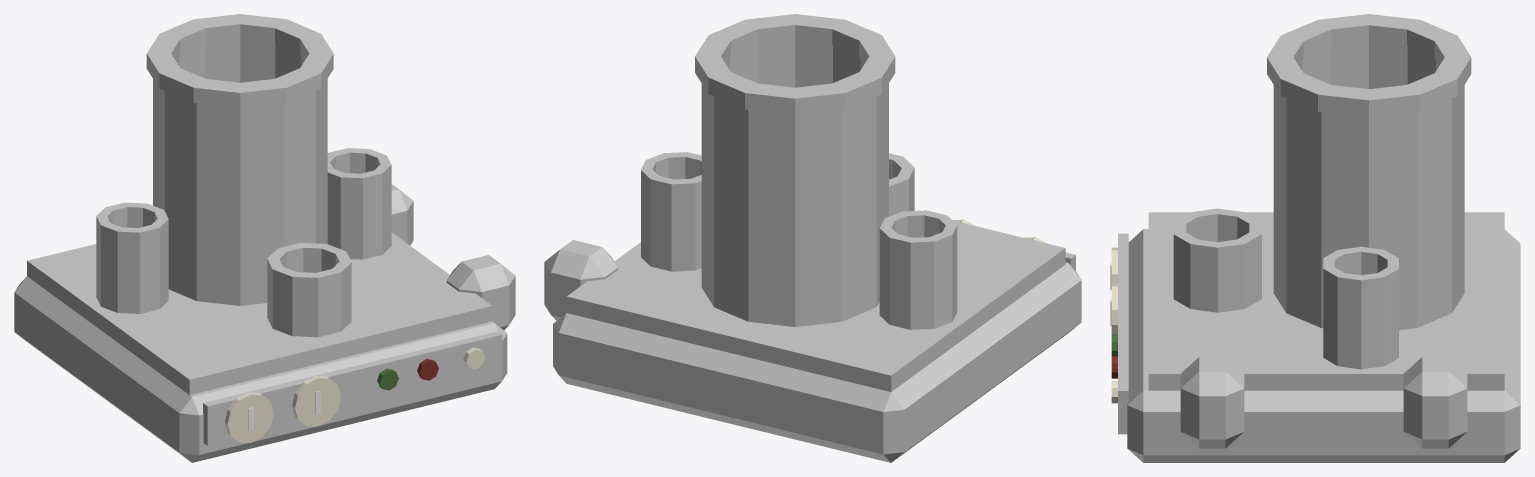
File: autobong.obj
3 renders of one model, left to right at view 1: azimuth 30°, elevation 25°; view 2: azimuth 150°, elevation 25°; view 3: azimuth 270°, elevation 25°, orthographic. The views are drawn at different scales.
Visible parts, largest first — view 1: autobong; view 2: autobong; view 3: autobong.
Boxes of the visible parts, bbox=[...] form: autobong: bbox=[14, 14, 515, 462]; autobong: bbox=[544, 14, 1081, 462]; autobong: bbox=[1110, 14, 1520, 462].
Bounding box in the file's own units: 1.72 × 1.35 × 1.54.
